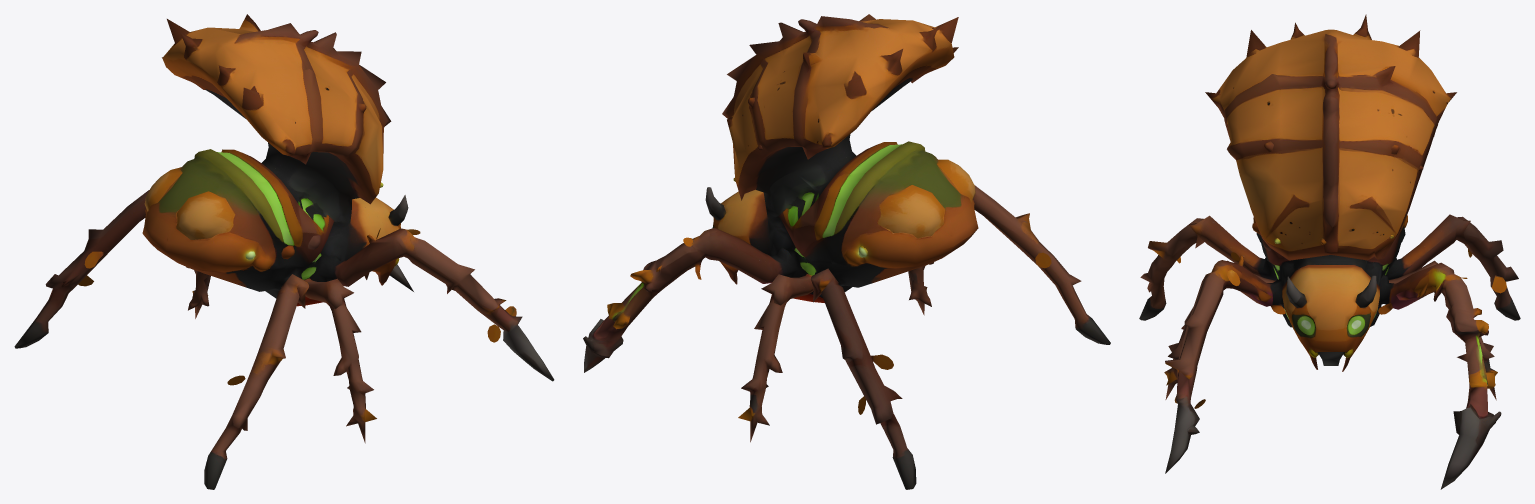
Rendered from swarmer_p2.glb.
3 views of the same model, side by side, from view 1: azimuth 30°, elevation 25°; view 2: azimuth 150°, elevation 25°; view 3: azimuth 270°, elevation 25° (orthographic). The views are drawn at different scales.
Visible parts, largest first — view 1: tripo_node_6d65667f-7890-4cb7-844b-eae48577a8f7; view 2: tripo_node_6d65667f-7890-4cb7-844b-eae48577a8f7; view 3: tripo_node_6d65667f-7890-4cb7-844b-eae48577a8f7.
Boxes of the visible parts, x1,y1,x2,y2 form: tripo_node_6d65667f-7890-4cb7-844b-eae48577a8f7: (14, 14, 554, 489); tripo_node_6d65667f-7890-4cb7-844b-eae48577a8f7: (583, 14, 1110, 489); tripo_node_6d65667f-7890-4cb7-844b-eae48577a8f7: (1139, 14, 1520, 489).
Bounding box in the file's own units: 0.9995 × 0.9458 × 0.9409.
Materials: 1 (1 with a texture image).
